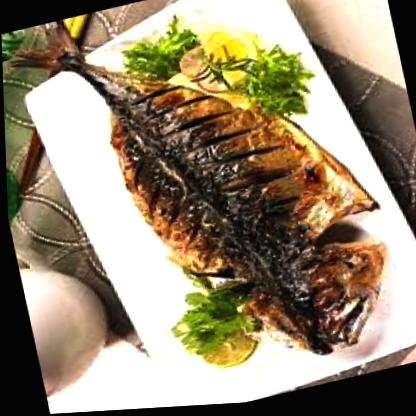grilled mackerel: (81, 23, 385, 371)
